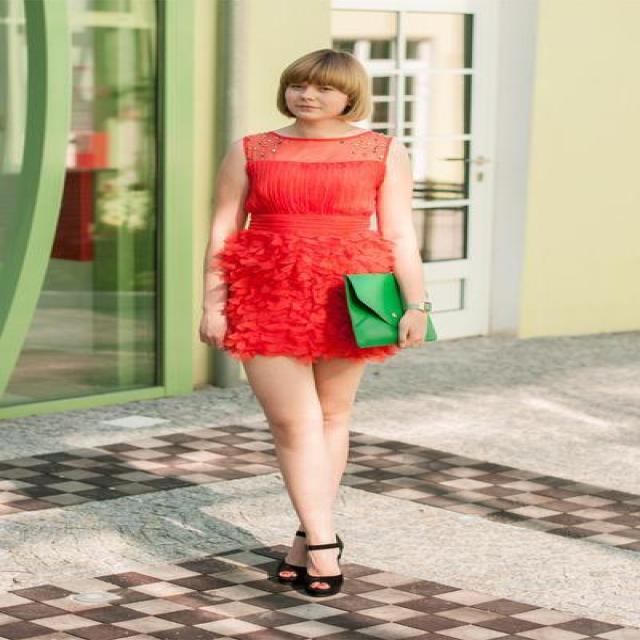bag: (333, 273, 406, 347)
dress: (220, 128, 402, 361)
shoe: (288, 564, 342, 596)
